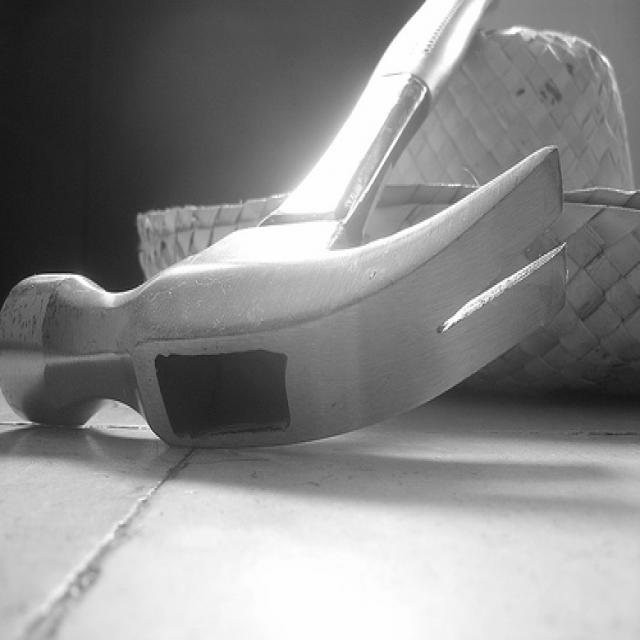hammer: (0, 0, 590, 458)
